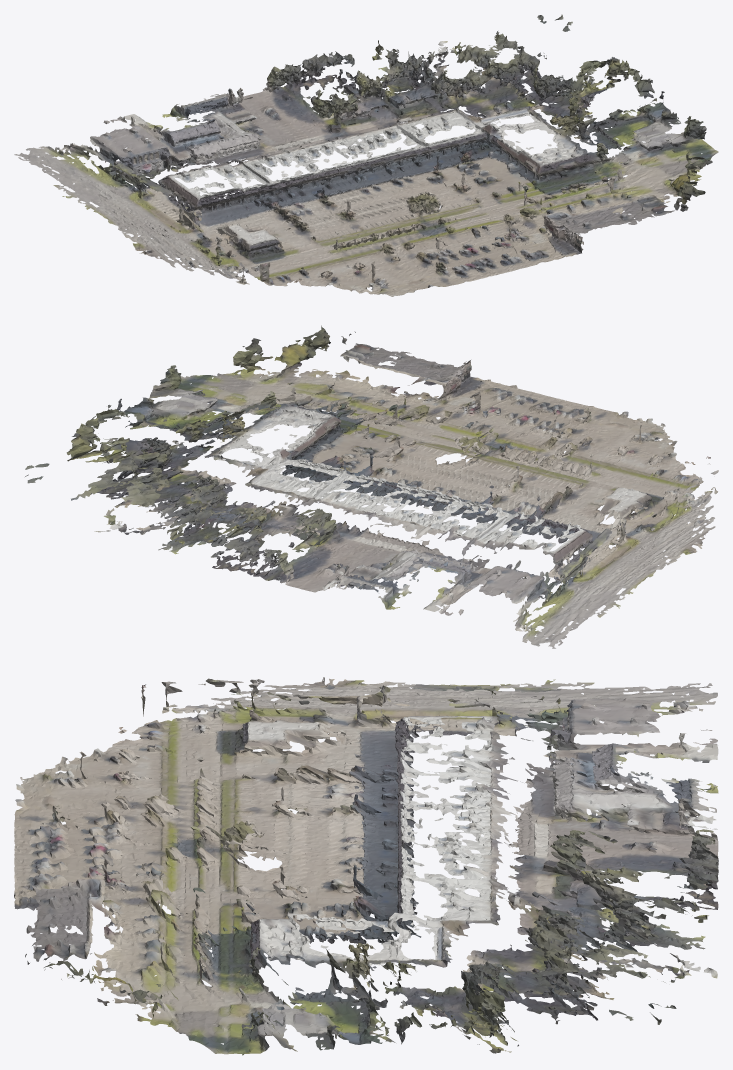
File: OTB-mesh.glb
The picture shows the model from 3 angles, top to bottom: view 1: azimuth 30°, elevation 25°; view 2: azimuth 150°, elevation 25°; view 3: azimuth 270°, elevation 25°; orthographic projection. The views are drawn at different scales.
Visible parts, largest first — view 1: world; view 2: world; view 3: world.
Part boxes in pixels (x1,y1,x2,y2): world: [14, 14, 718, 296]; world: [25, 325, 718, 648]; world: [14, 677, 718, 1055].
Bounding box in the file's own units: 113 × 5.48 × 89.99.
